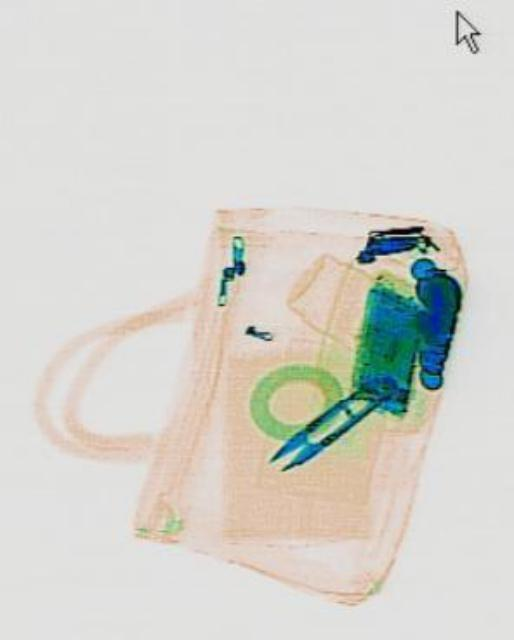Scissors: (263, 359, 396, 479)
